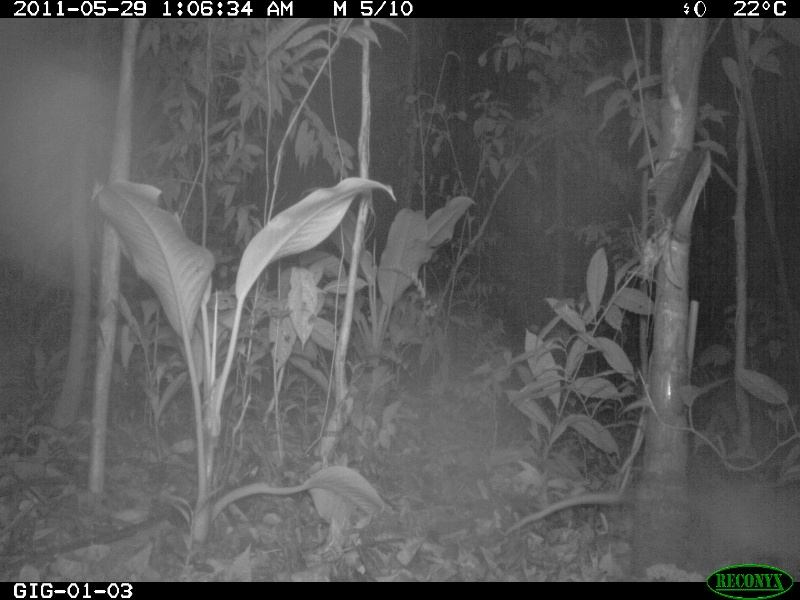opossum: (511, 479, 800, 550)
